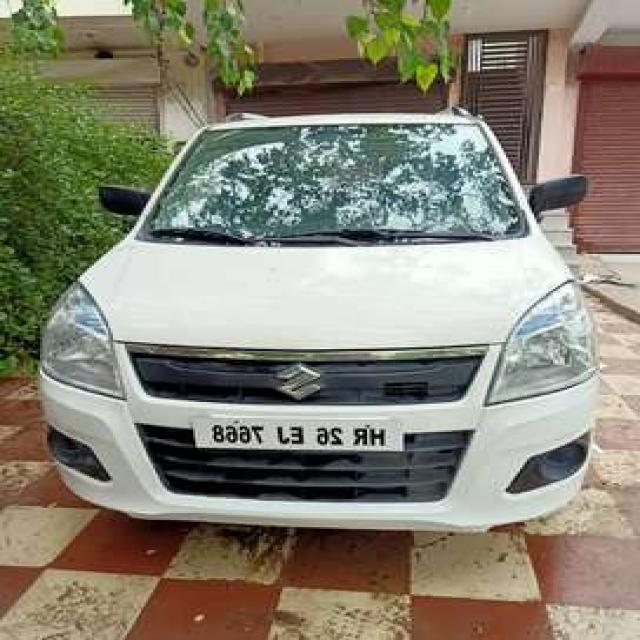license_plate: (189, 408, 407, 454)
